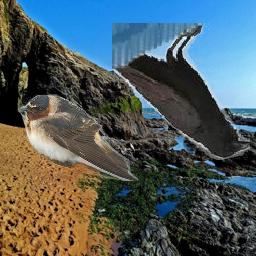Crow: (112, 24, 250, 161)
Swallow: (20, 95, 138, 182)
